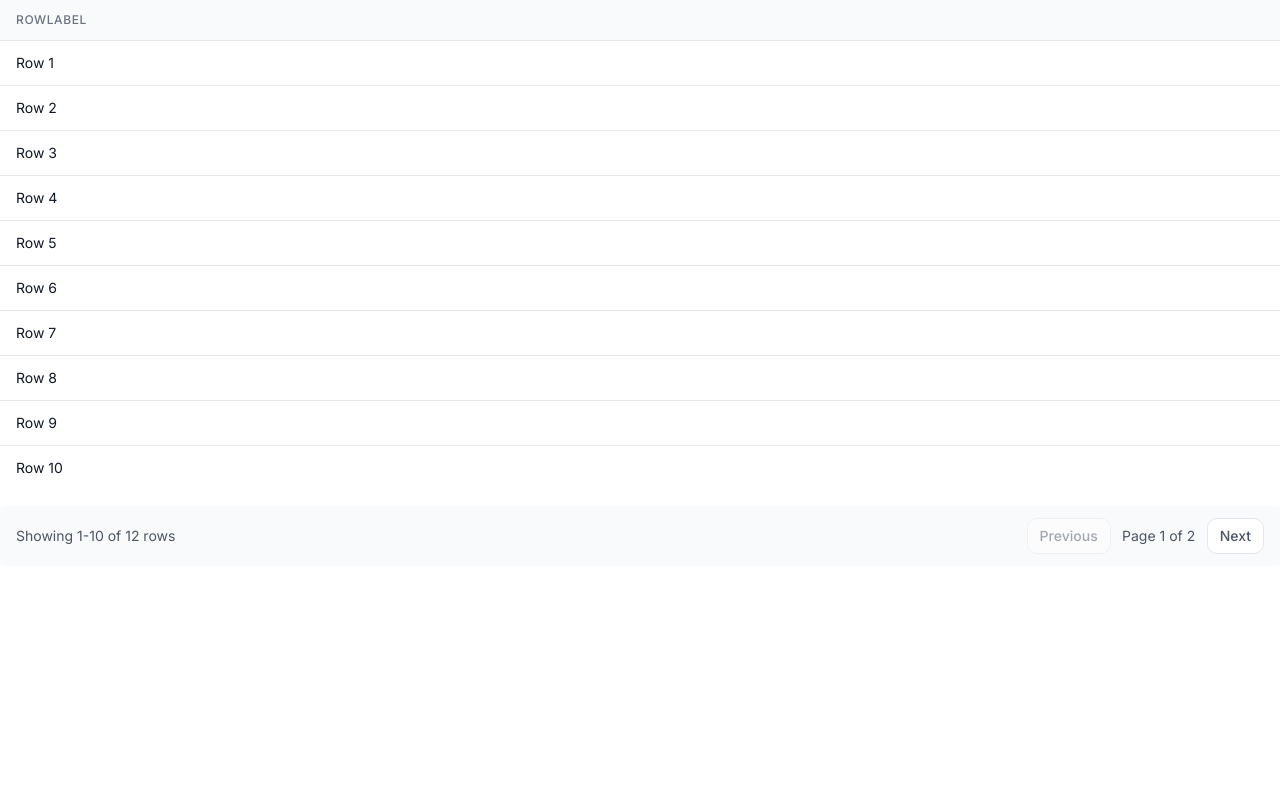
it: ResultsTable › supports paging through table results
Check: the text "Showing 1-10 of 12 rows" is shown, box [16,526,175,546]
Check: the text "Row 1" is shown, box [0,40,1279,86]
Click the button "Next" at (1235, 536), box [1207,518,1264,554]
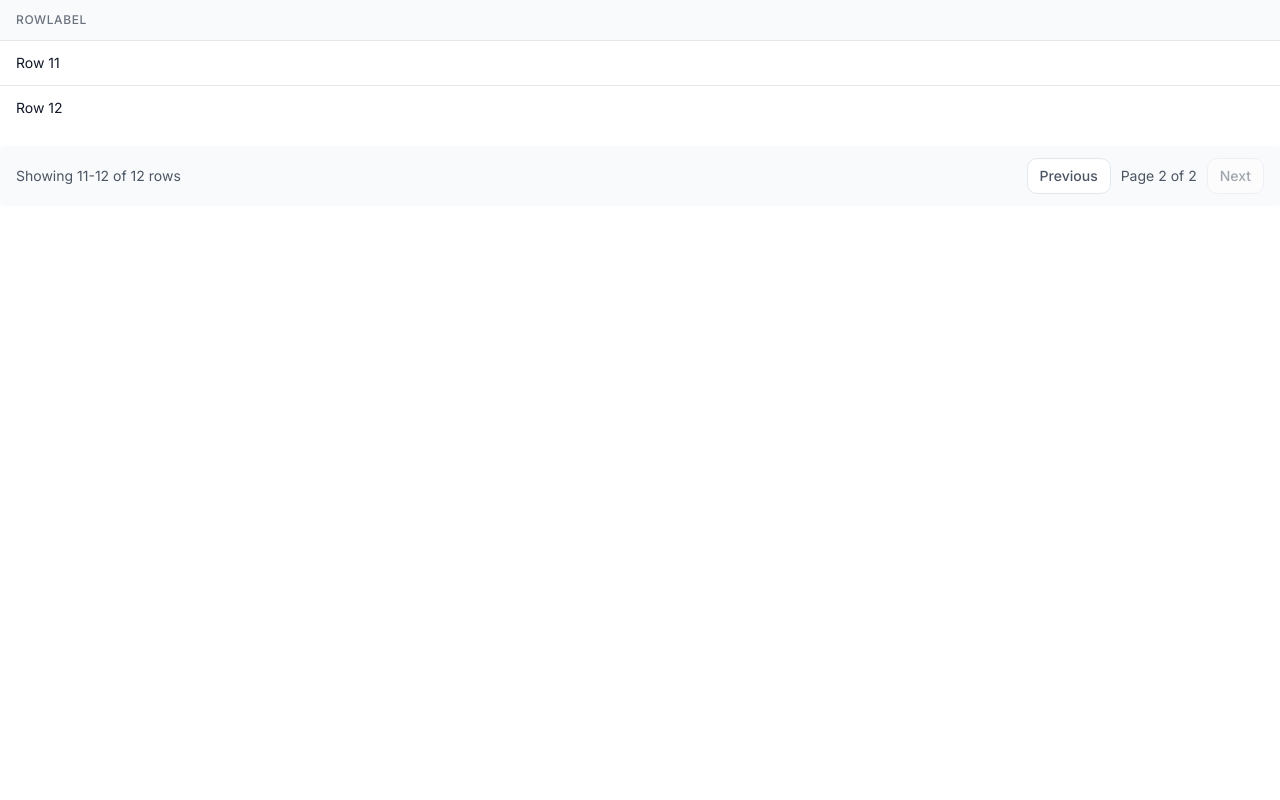
Check: the text "Showing 11-12 of 12 rows" is shown, box [16,166,181,186]
Check: the text "Row 11" is shown, box [0,40,1279,86]
Click the button "Previous" at (1069, 176), box [1027,158,1111,194]
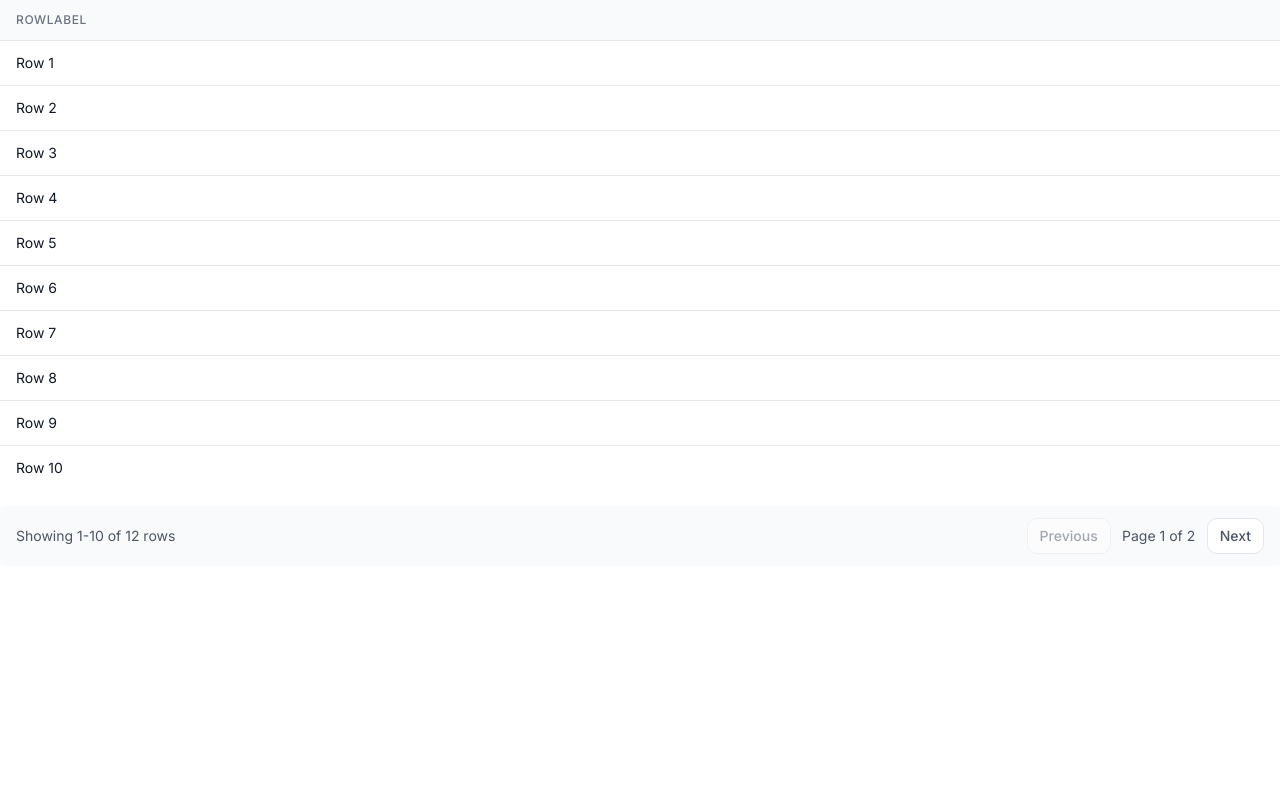
Check: the text "Row 1" is shown, box [0,40,1279,86]
Check: the text "Showing 1-10 of 12 rows" is shown, box [16,526,175,546]
